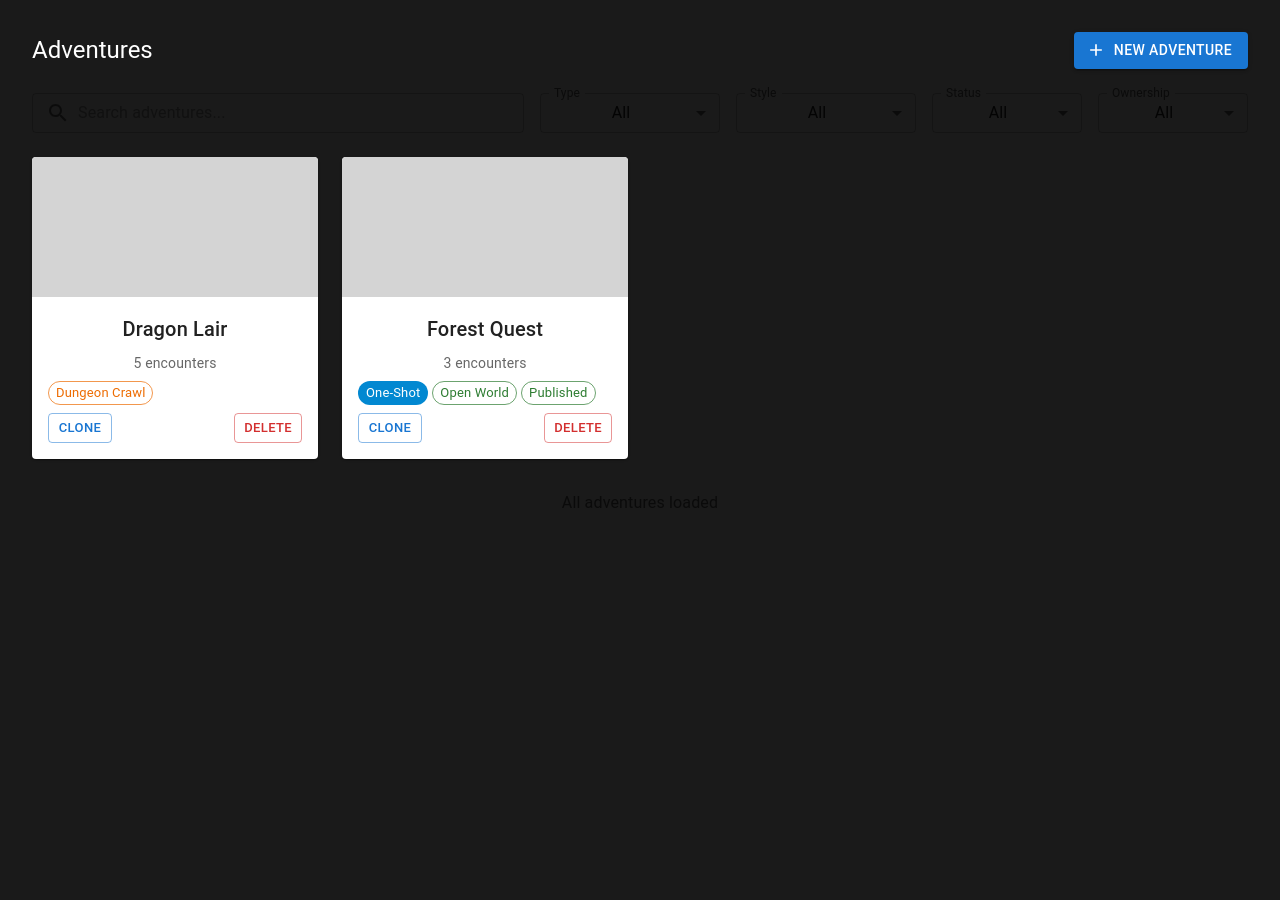
AdventureListView › delete flow › should open delete dialog when delete is clicked
Click the 1st button "Delete" at point(268, 428), box x1=234 y1=412 x2=302 y2=443
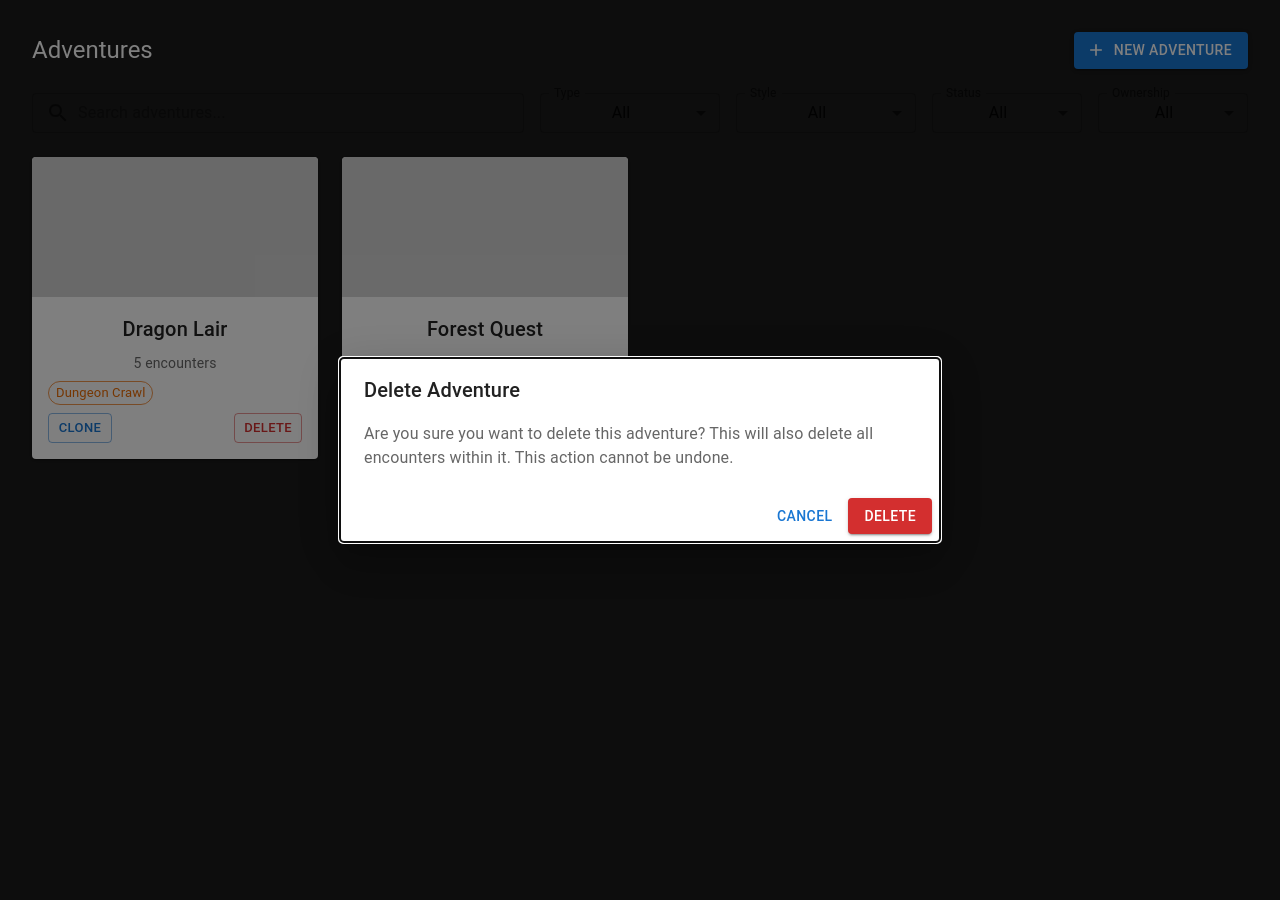
Expected: the dialog is shown, x1=340 y1=358 x2=940 y2=542
Expected: the heading "Delete Adventure" is shown, x1=364 y1=378 x2=520 y2=402
Expected: the text "Are you sure you want to delete this adventure" is shown, x1=364 y1=424 x2=873 y2=467
